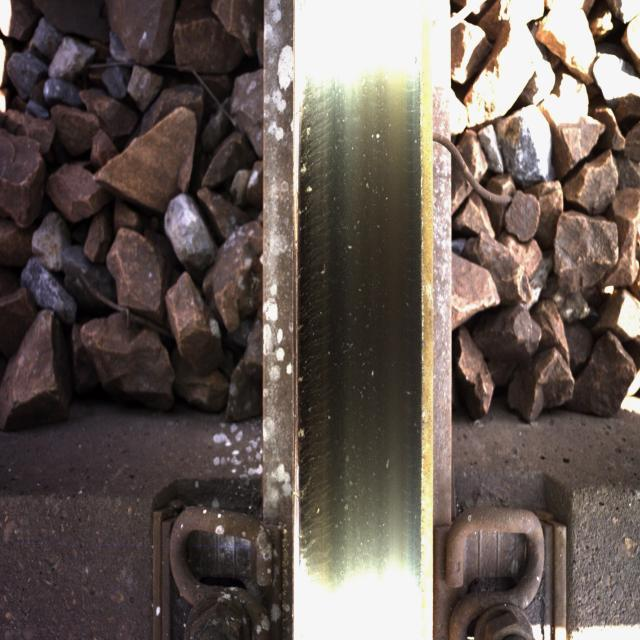normal: (314, 38, 411, 592)
